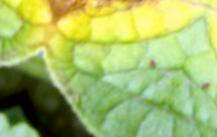Tomato Early blight leaf: (23, 0, 213, 137)
